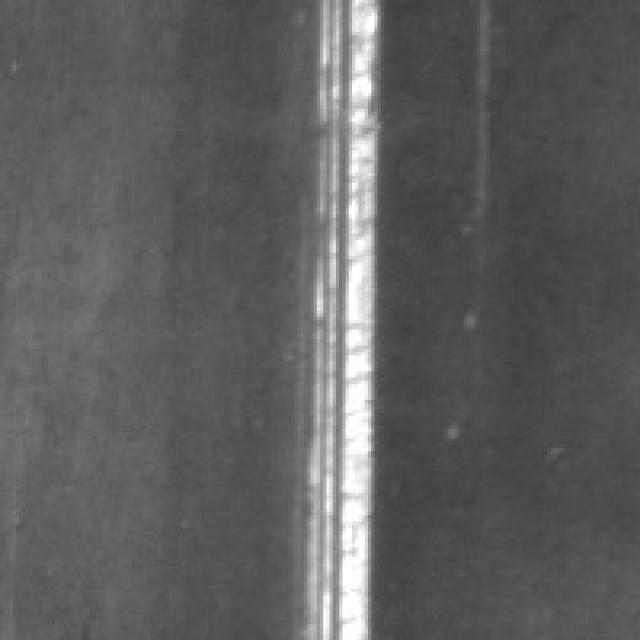scratches: (294, 0, 381, 634)
